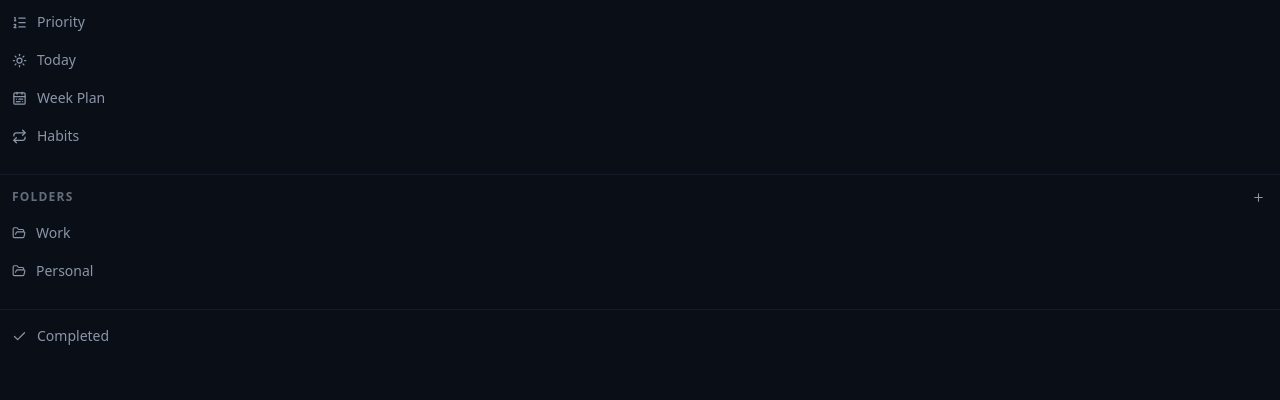
Scenario: FolderNav › shows the new folder in the list immediately before the API resolves
This screenshot has width=1280, height=400.
Click the button named "create folder": x=1258, y=197 top-left (1248, 187), bottom-right (1268, 207)
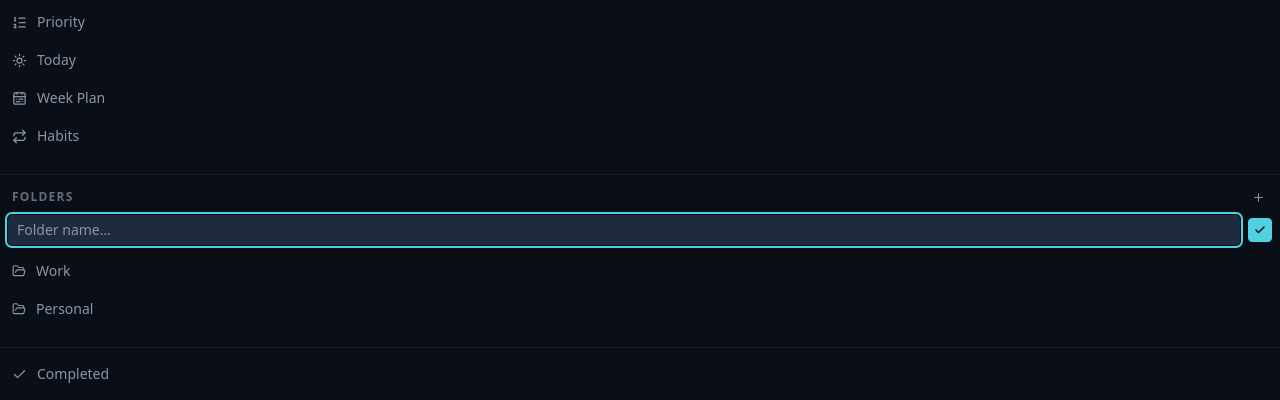
In the field with placeholder "Folder name…": x=624, y=230 top-left (8, 215), bottom-right (1240, 245), type "Projects"
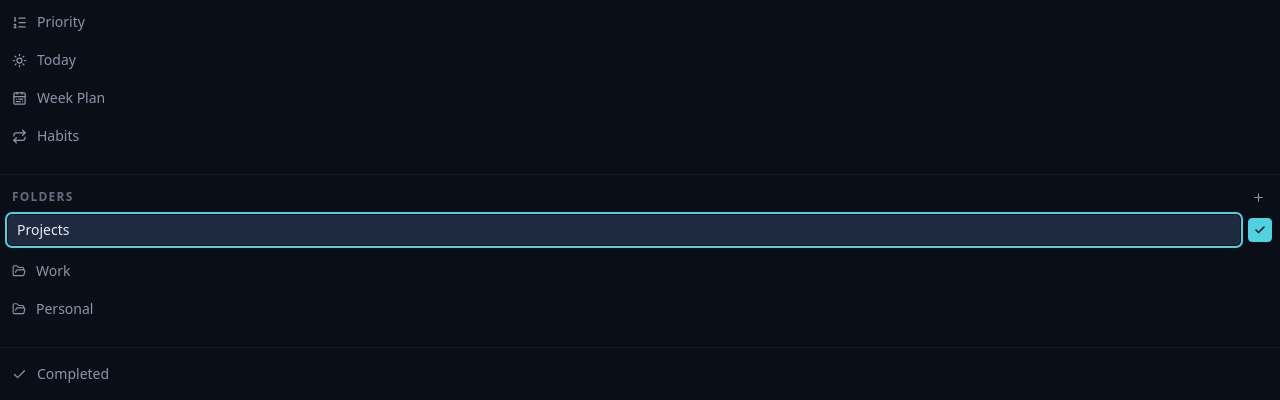
Click the button named "save folder": x=1260, y=230 top-left (1248, 218), bottom-right (1272, 242)
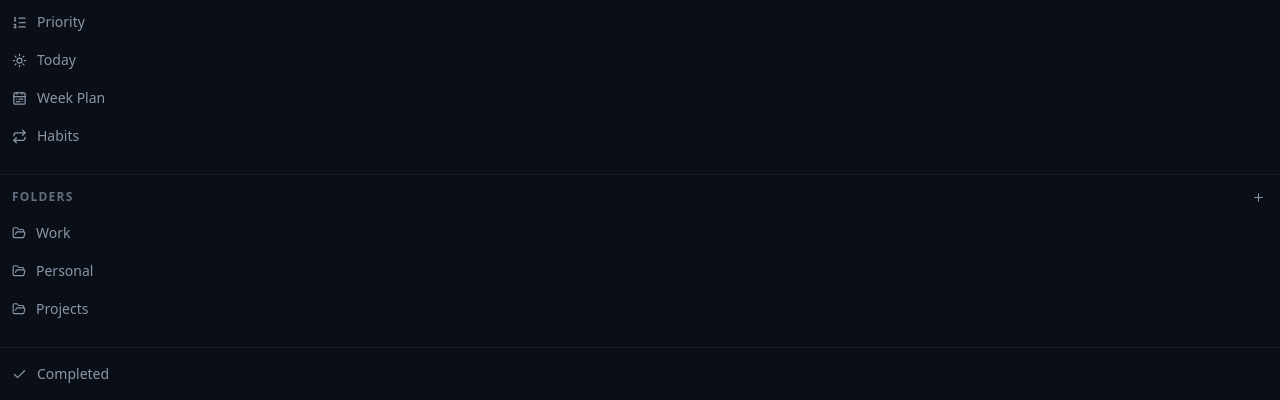
Expected: the link "Projects" is shown, top-left (12, 299), bottom-right (88, 318)
